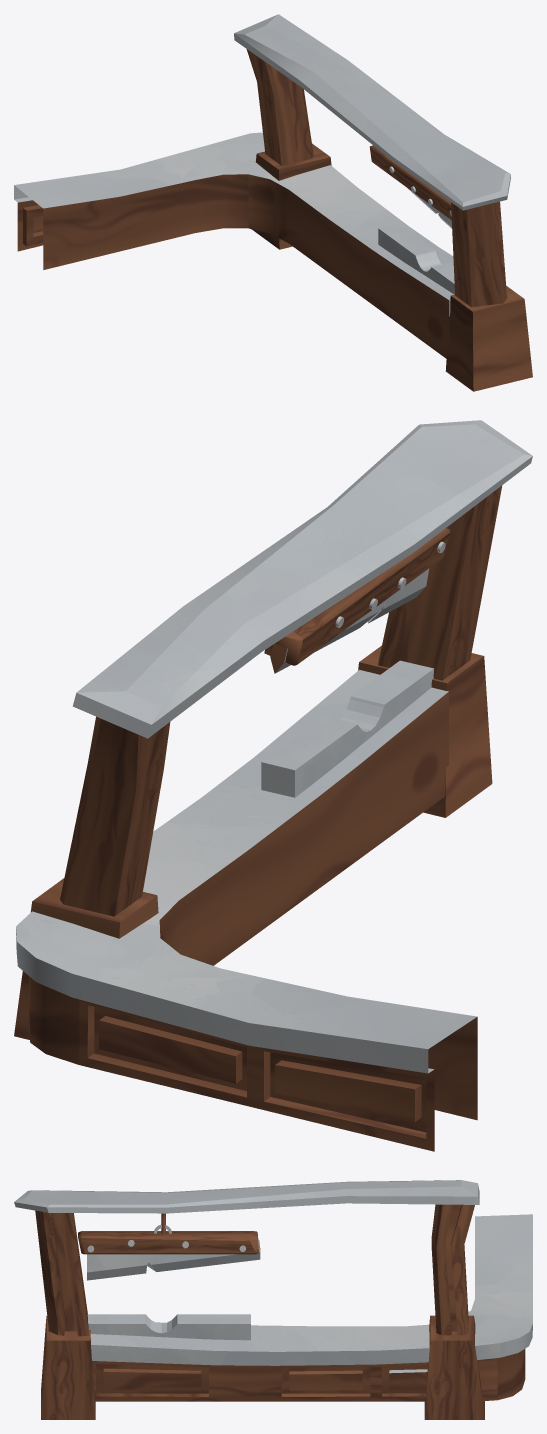
The model's file is SM_Counter.fbx.
The picture shows the model from 3 angles, top to bottom: view 1: azimuth 30°, elevation 25°; view 2: azimuth 150°, elevation 25°; view 3: azimuth 270°, elevation 25°; orthographic projection. The views are drawn at different scales.
Visible parts, largest first — view 1: Box008; view 2: Box008; view 3: Box008.
Boxes of the visible parts, x1,y1,x2,y2 form: Box008: [14, 14, 532, 391]; Box008: [14, 420, 532, 1151]; Box008: [14, 1180, 532, 1419].
Size of the model in its own units: 409 by 307 by 688.
